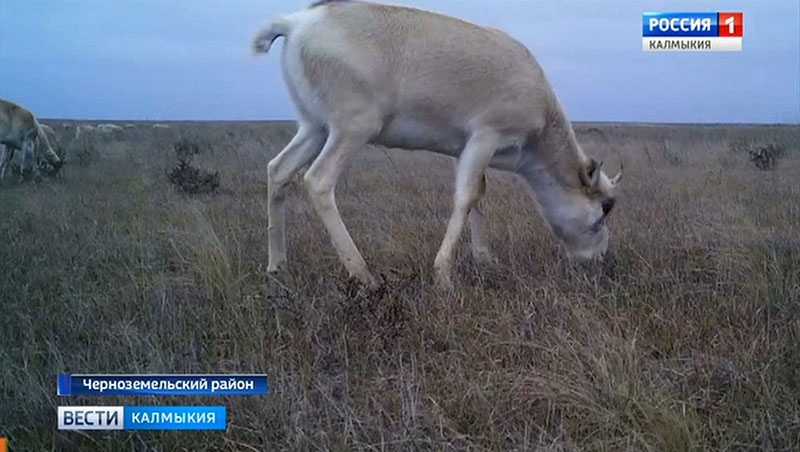saiga: (252, 3, 627, 300)
